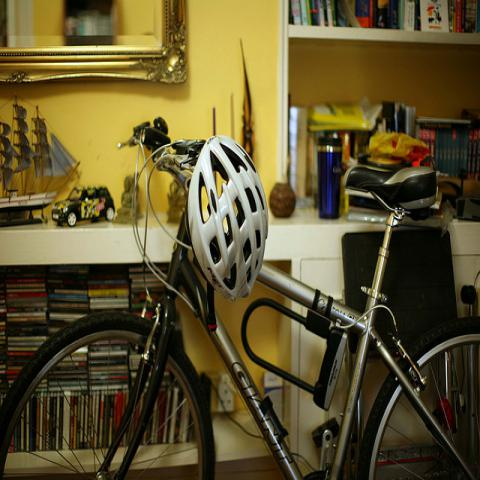car: (51, 186, 116, 227)
